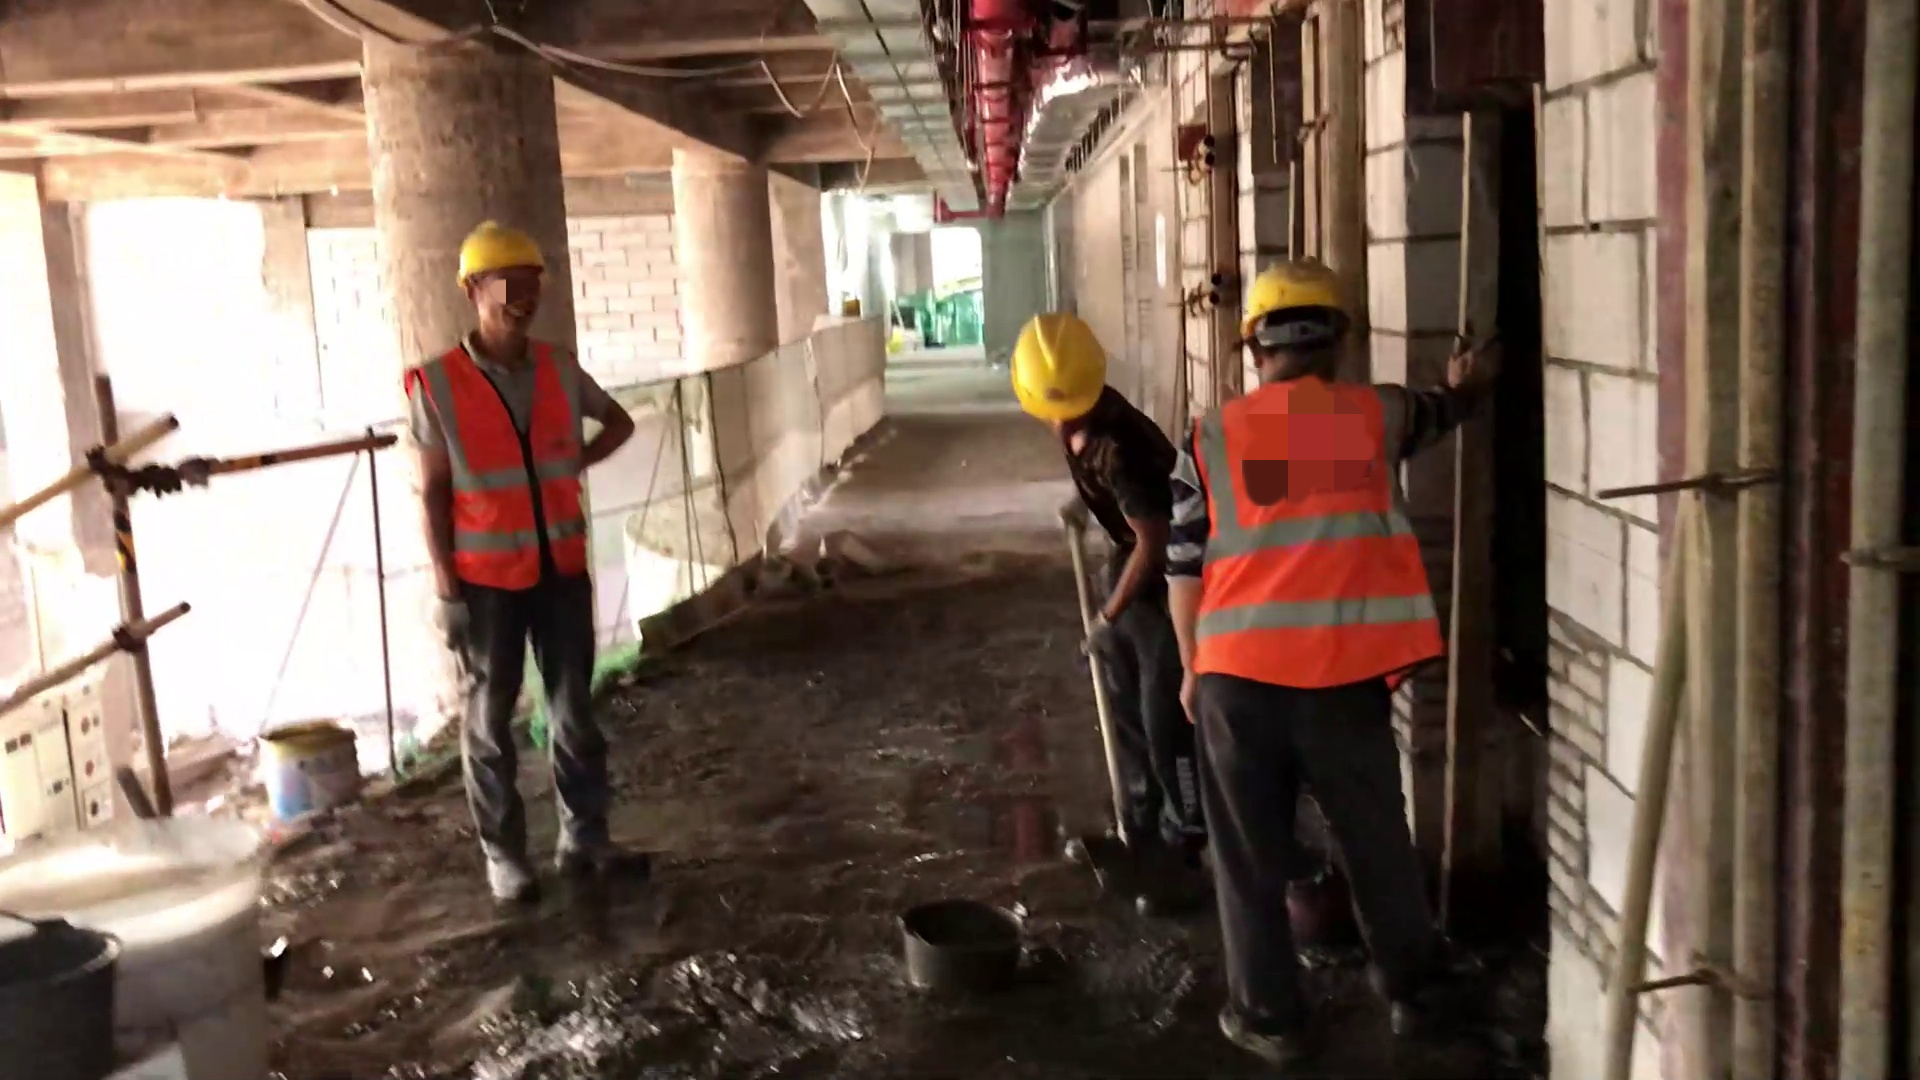helmet: (1004, 300, 1108, 424), (1241, 251, 1370, 329), (457, 217, 553, 271)
person: (1167, 276, 1470, 1053), (395, 214, 653, 883), (995, 303, 1205, 871)
vest: (1192, 382, 1445, 684), (409, 337, 605, 590)
